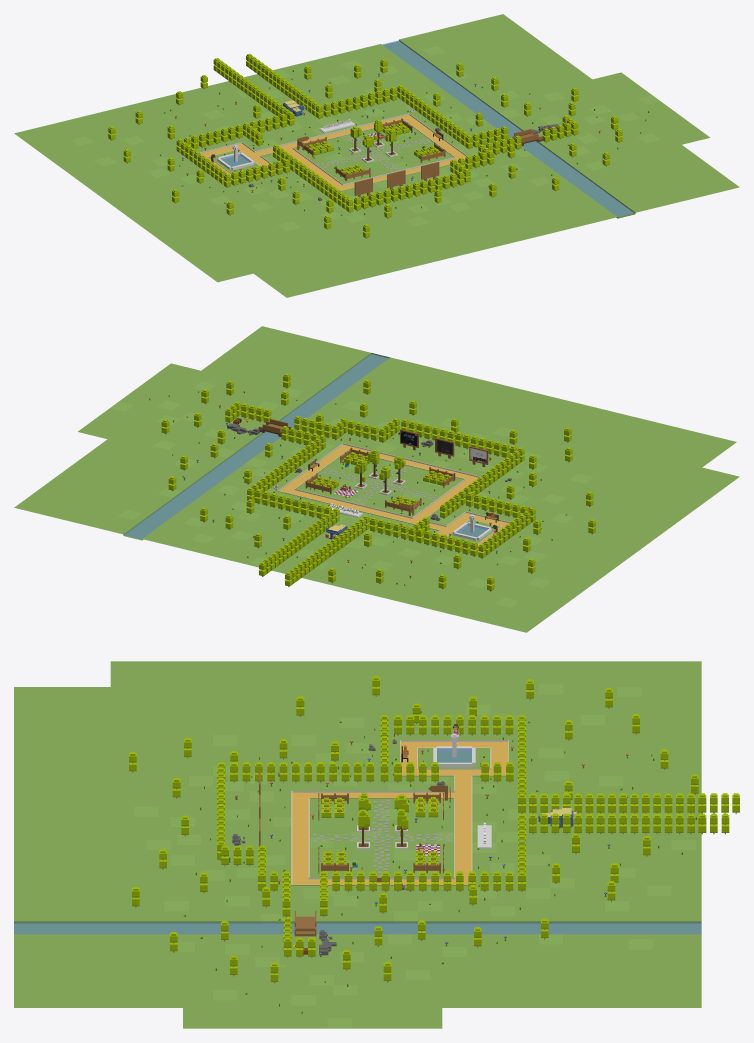
The model's file is Portfolio-test2.glb.
3 renders of one model, top to bottom at view 1: azimuth 30°, elevation 25°; view 2: azimuth 150°, elevation 25°; view 3: azimuth 270°, elevation 25°, orthographic. The views are drawn at different scales.
Parts seen in each view (by area): view 1: Level; view 2: Level; view 3: Level.
Boxes of the visible parts, x1,y1,x2,y2 form: Level: (14,14,739,297); Level: (14,326,739,632); Level: (14,661,739,1028).
Size of what is drawn, in the model's own units: 310 by 15.62 by 259.
73 materials, 3 textured.
